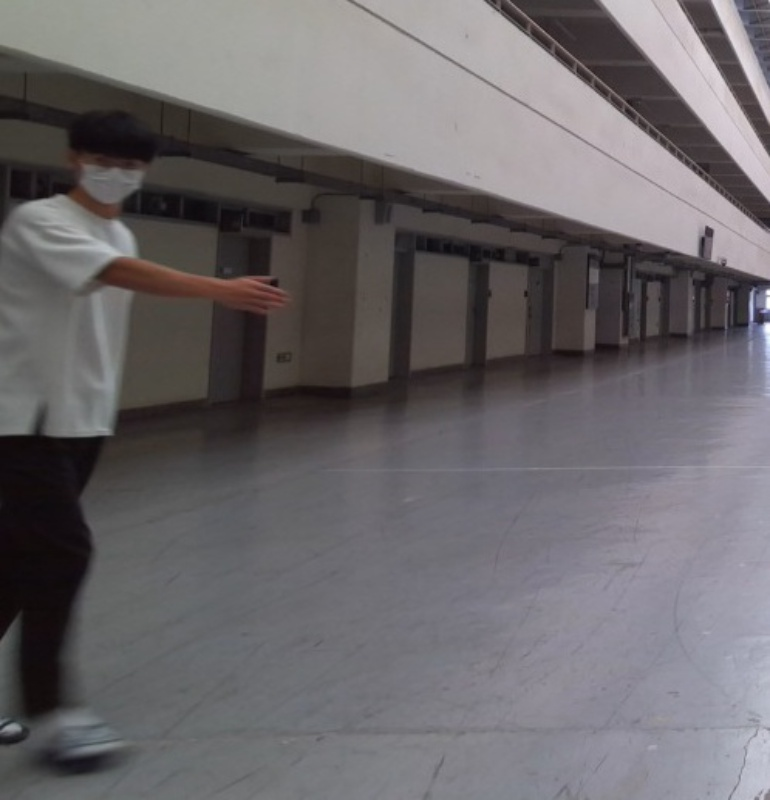person: (2, 105, 286, 776)
